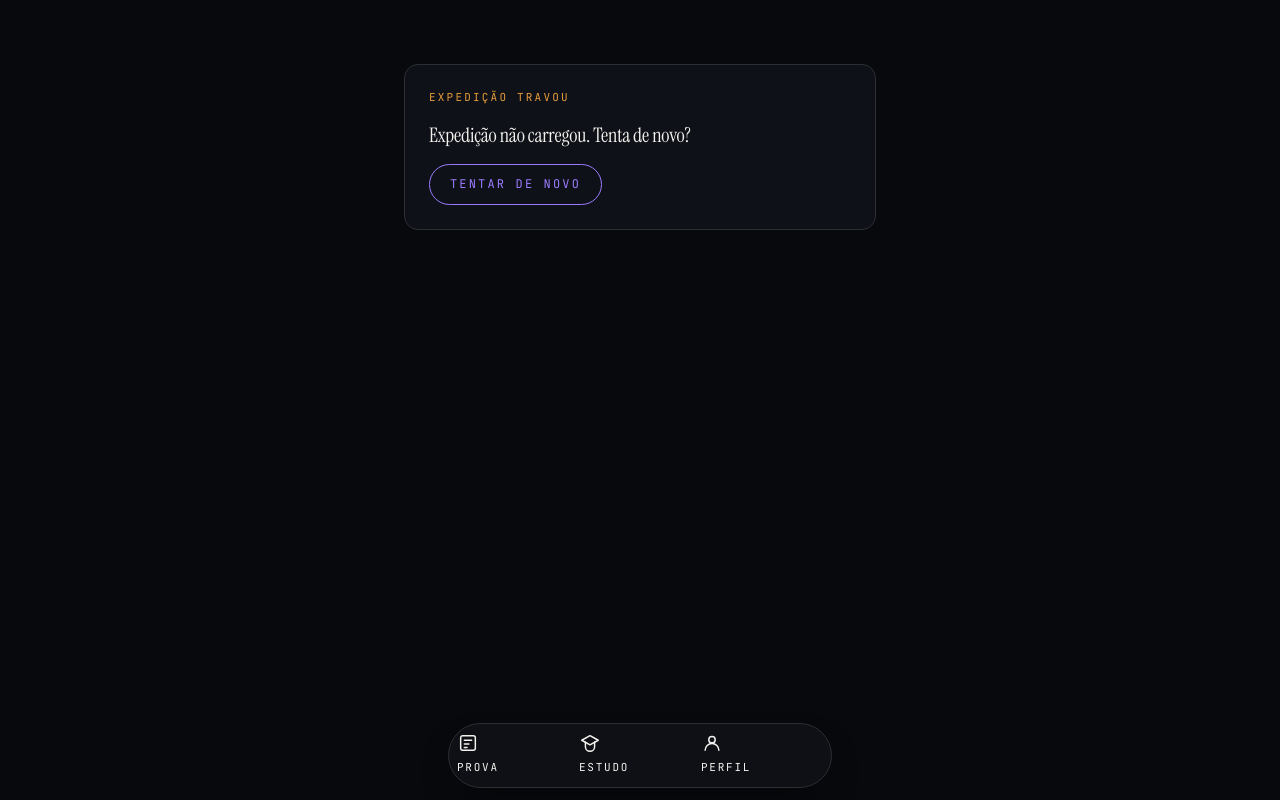
Test: ProvaPage › renders the expedition error state and recovers on retry when fetchProfile throws
expect the text "Expedição não carregou. Tenta de novo?" is shown: met, box [429, 122, 691, 148]
Click the button "Tentar de novo": coordinates (516, 184) [429, 164, 602, 205]
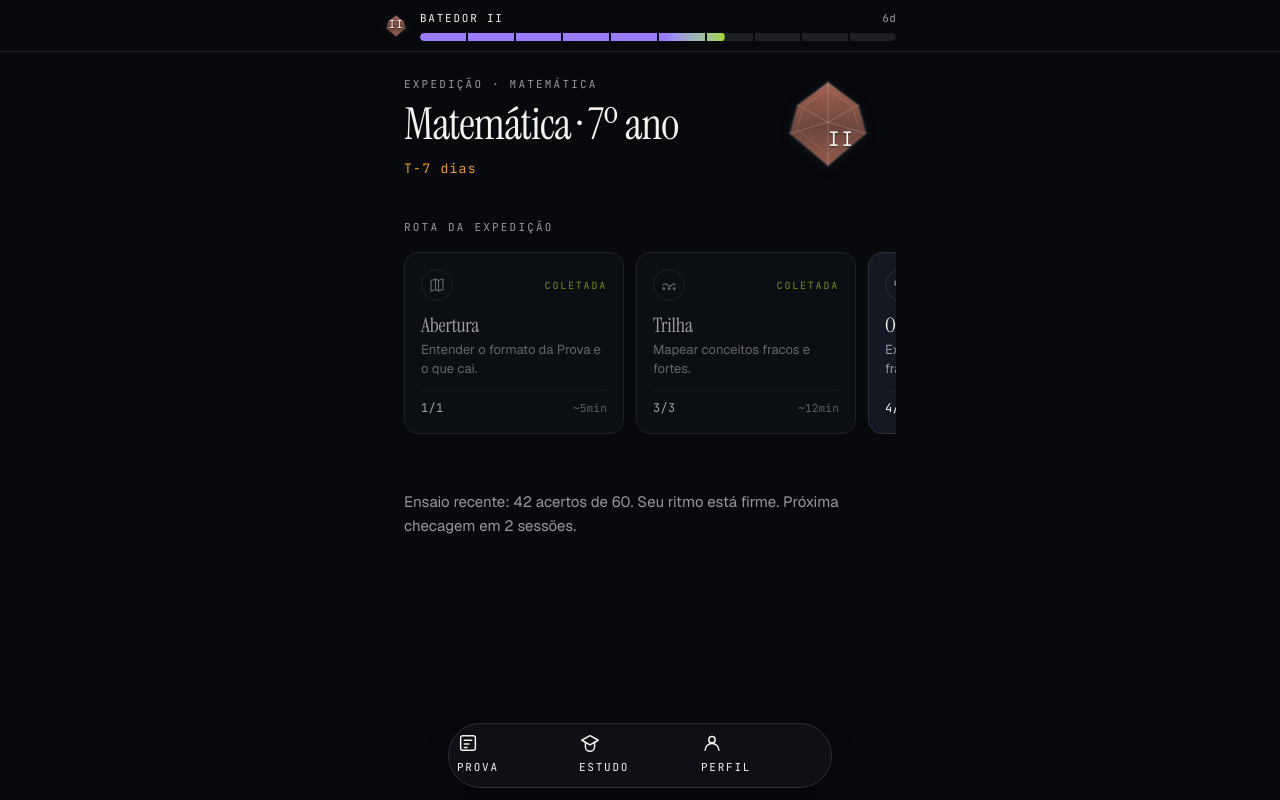
expect the text "Expedição · Matemática" is shown: met, box [404, 77, 598, 91]
